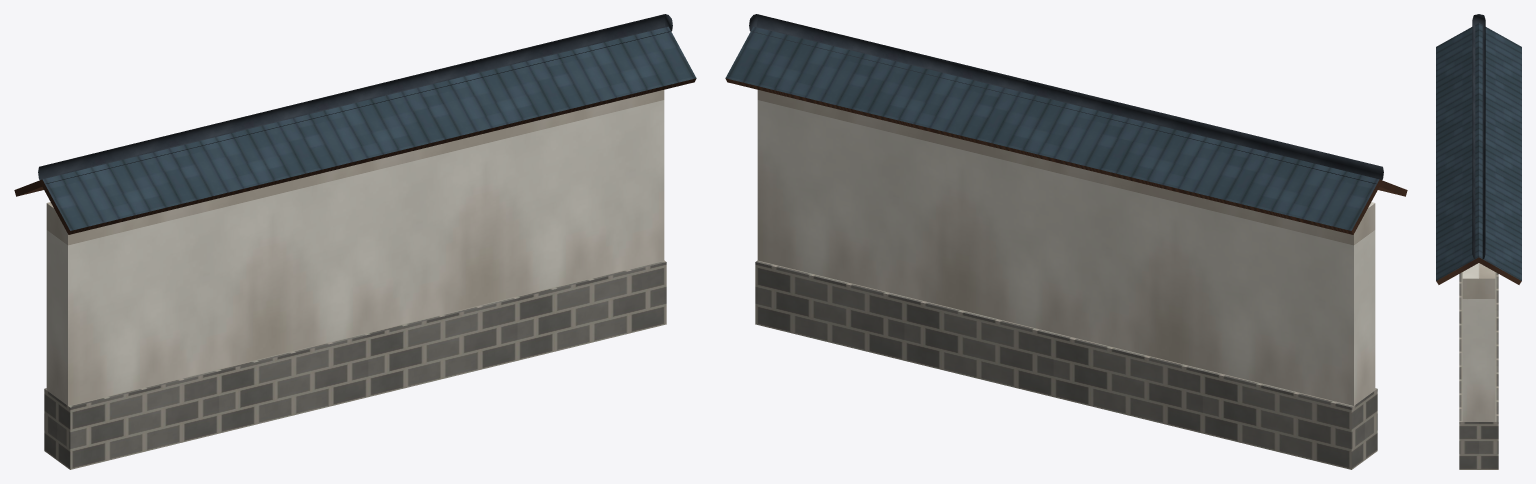
The model's file is courtyard_wall.glb.
3 views of the same model, side by side, from view 1: azimuth 30°, elevation 25°; view 2: azimuth 150°, elevation 25°; view 3: azimuth 270°, elevation 25° (orthographic). The views are drawn at different scales.
Parts seen in each view (by area): view 1: WallBody, WallPlinth, WallCoping, WallRidge; view 2: WallBody, WallPlinth, WallCoping, WallRidge; view 3: WallCoping, WallBody, WallPlinth, WallRidge.
Boxes of the visible parts, x1=… form: WallBody: x1=46, y1=90, x2=664, y2=405; WallPlinth: x1=44, y1=260, x2=666, y2=469; WallCoping: x1=14, y1=26, x2=696, y2=234; WallRidge: x1=38, y1=14, x2=672, y2=183; WallBody: x1=757, y1=90, x2=1375, y2=405; WallPlinth: x1=755, y1=260, x2=1377, y2=469; WallCoping: x1=725, y1=26, x2=1407, y2=234; WallRidge: x1=749, y1=14, x2=1383, y2=183; WallCoping: x1=1436, y1=23, x2=1521, y2=284; WallBody: x1=1462, y1=263, x2=1495, y2=421; WallPlinth: x1=1459, y1=272, x2=1498, y2=469; WallRidge: x1=1472, y1=14, x2=1485, y2=259.
Size of what is drawn, in the model's own units: 8.4 by 3.8 by 1.3.
Materials: 5 (5 with a texture image).
